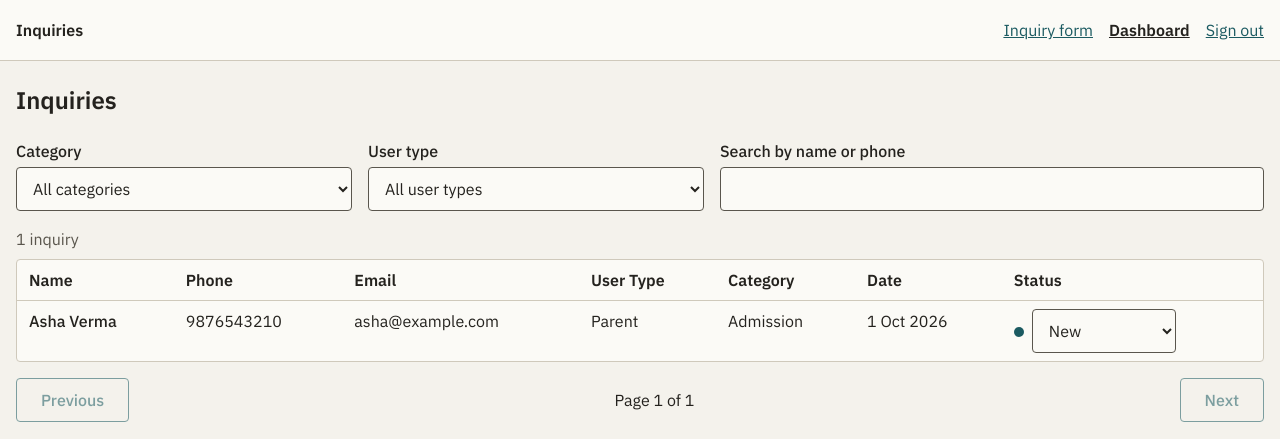
Test case: dashboard › signs out
Expected: the table is shown, [17,260,1263,361]
Step 1. Click the button "Sign out" → (1235, 30), box [1206,8,1264,52]
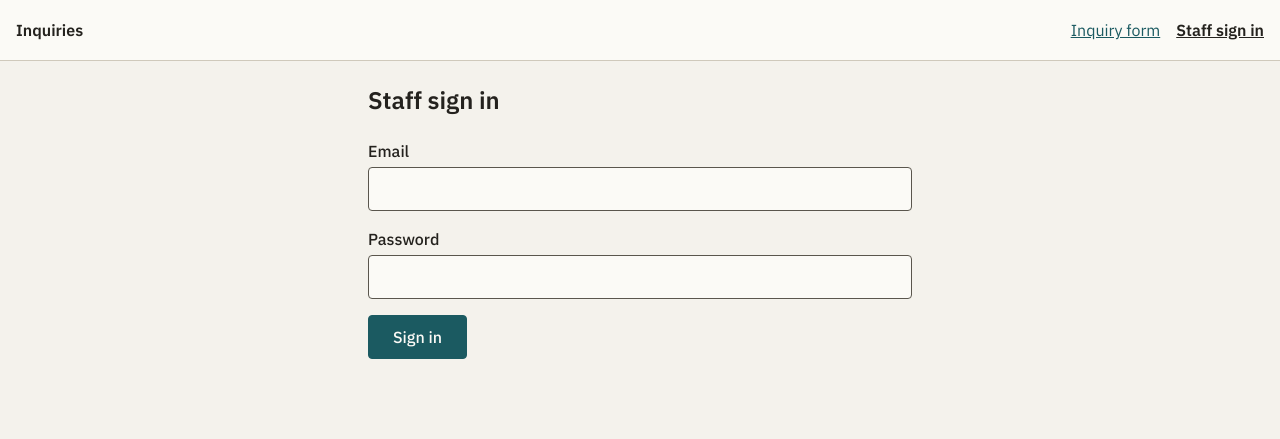
Expected: the heading "Staff sign in" is shown, [368,84,500,116]
